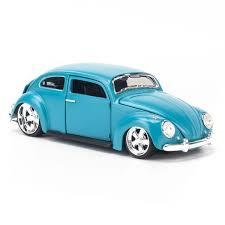volkswagen: (5, 62, 218, 160)
